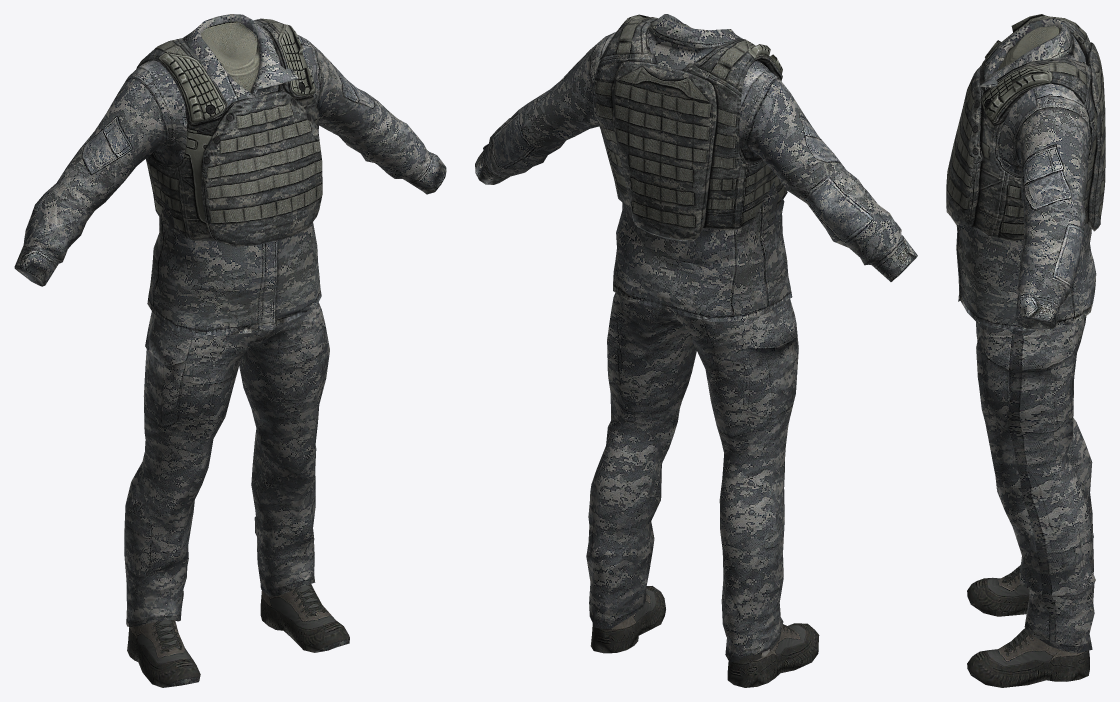
The model's file is ArmyUniform.FBX.
3 renders of one model, left to right at view 1: azimuth 30°, elevation 25°; view 2: azimuth 150°, elevation 25°; view 3: azimuth 270°, elevation 25°, orthographic. The views are drawn at different scales.
Parts seen in each view (by area): view 1: Uniform; view 2: Uniform; view 3: Uniform.
Part boxes in pixels (bbox=[...]): Uniform: bbox=[14, 14, 446, 687]; Uniform: bbox=[475, 14, 917, 687]; Uniform: bbox=[946, 14, 1105, 687].
Bounding box in the file's own units: 1.21 × 1.7 × 0.3989.
